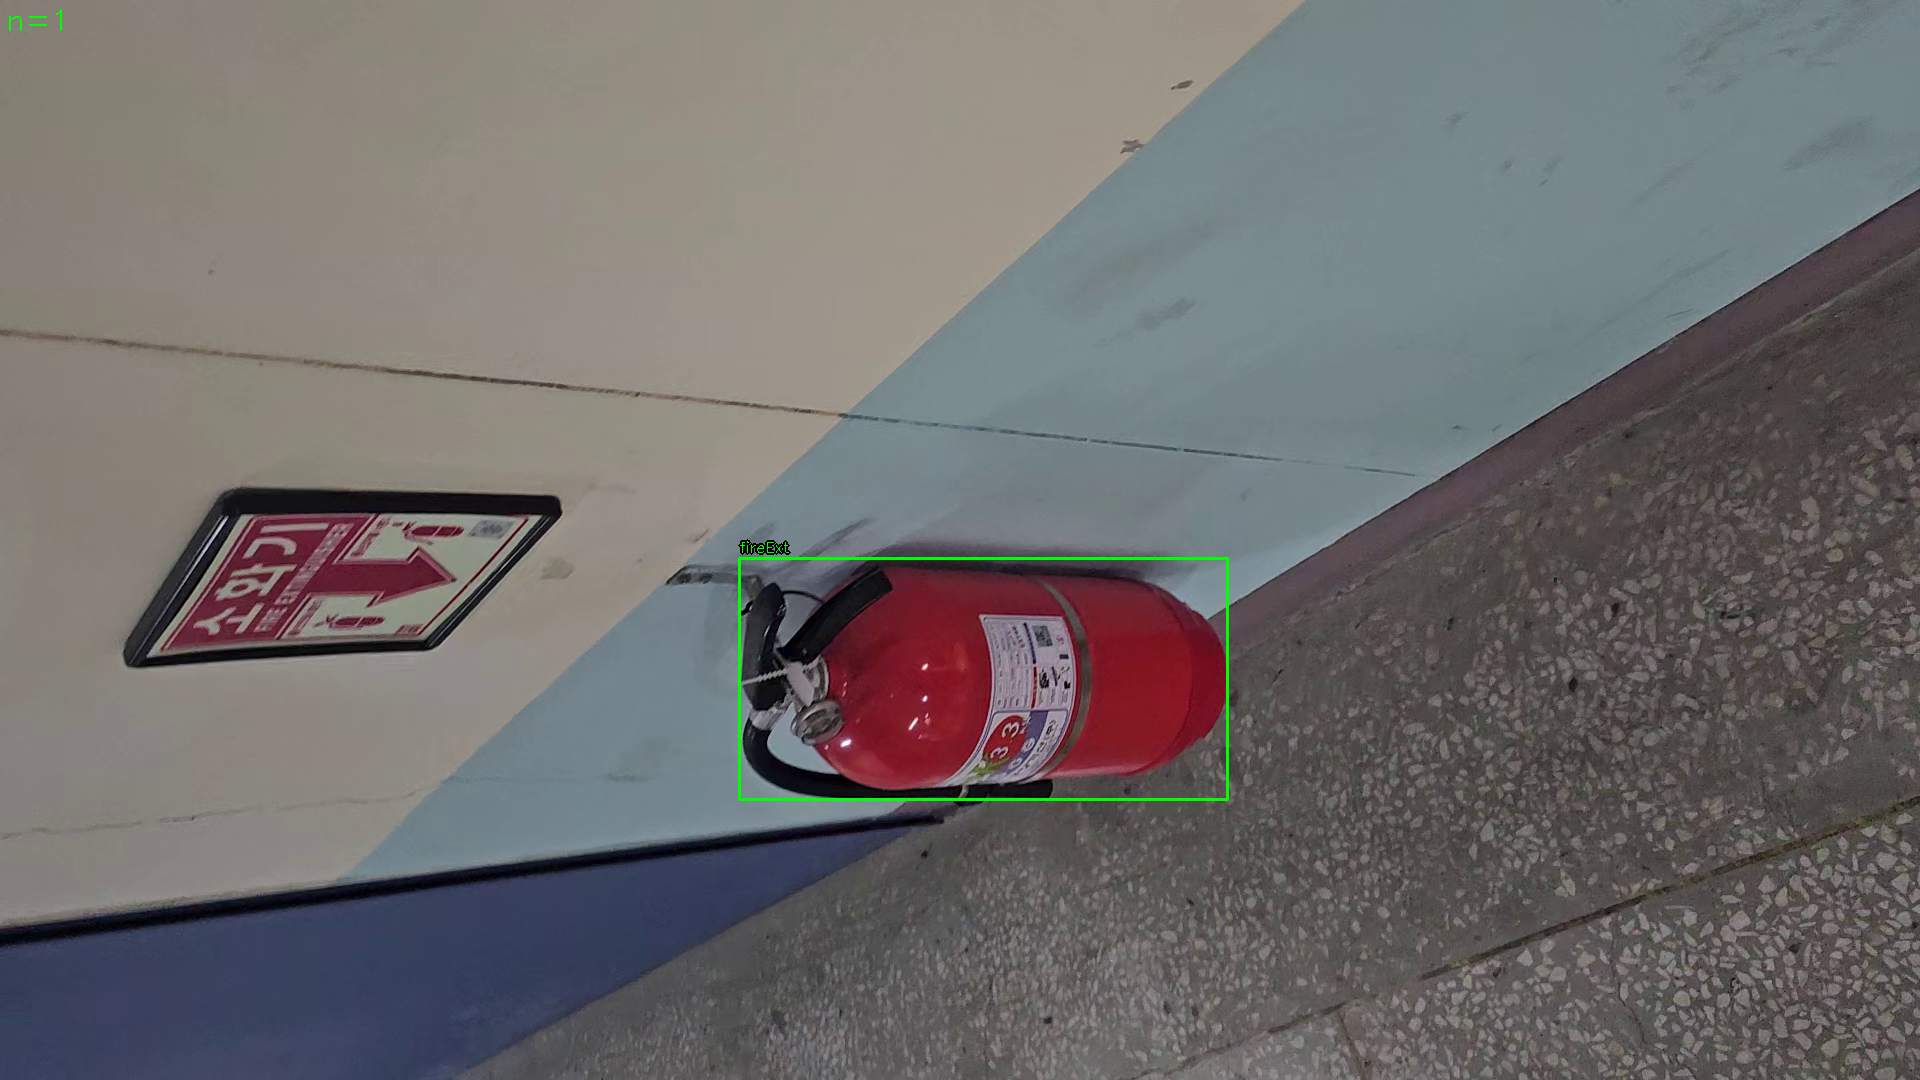lane: (738, 558, 1228, 800)
